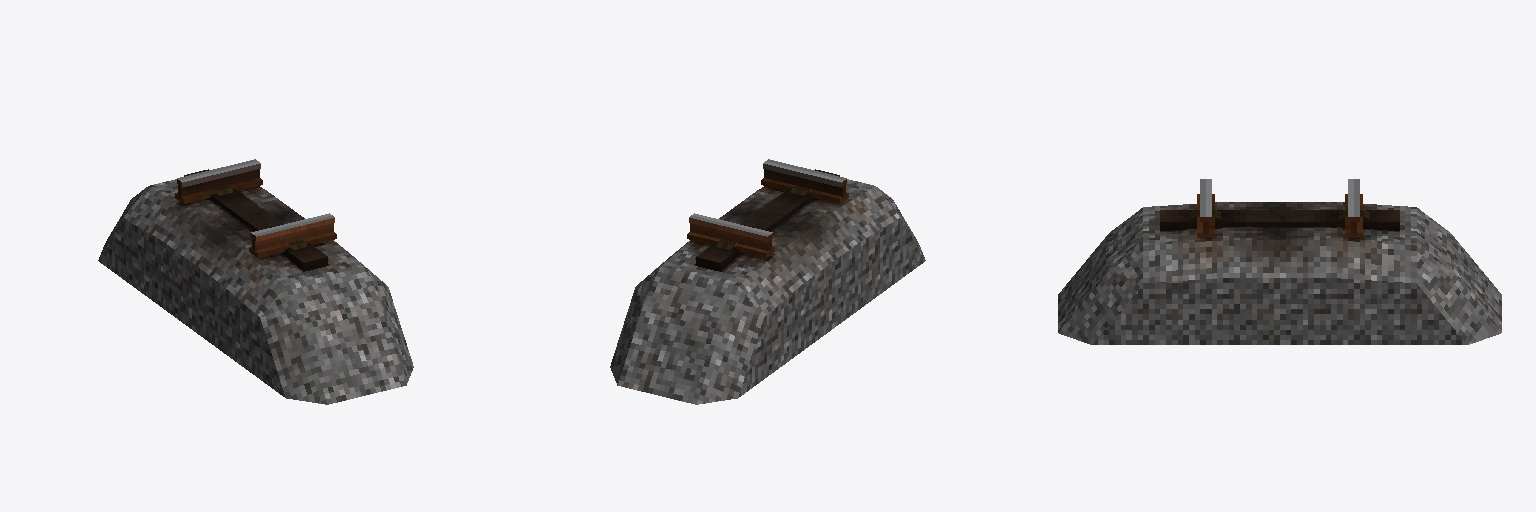
3 views of the same model, side by side, from view 1: azimuth 30°, elevation 25°; view 2: azimuth 150°, elevation 25°; view 3: azimuth 270°, elevation 25° (orthographic).
Visible parts, largest first — view 1: RAIL_BASE_mvpRail_WG, RAIL_LEFT_mvpRail_WG, RAIL_RIGHT_mvpRail_WG; view 2: RAIL_BASE_mvpRail_WG, RAIL_RIGHT_mvpRail_WG, RAIL_LEFT_mvpRail_WG; view 3: RAIL_BASE_mvpRail_WG, RAIL_LEFT_mvpRail_WG, RAIL_RIGHT_mvpRail_WG.
Boxes of the visible parts, box(x1,y1,x2,y2) form: RAIL_BASE_mvpRail_WG: box(98, 169, 413, 404); RAIL_LEFT_mvpRail_WG: box(249, 213, 336, 257); RAIL_RIGHT_mvpRail_WG: box(175, 159, 262, 203); RAIL_BASE_mvpRail_WG: box(610, 169, 925, 404); RAIL_RIGHT_mvpRail_WG: box(687, 213, 774, 257); RAIL_LEFT_mvpRail_WG: box(761, 159, 848, 203); RAIL_BASE_mvpRail_WG: box(1058, 202, 1501, 344); RAIL_LEFT_mvpRail_WG: box(1197, 179, 1214, 237); RAIL_RIGHT_mvpRail_WG: box(1345, 179, 1362, 237).
Bounding box in the file's own units: 1.62 × 1.41 × 4.88.
Materials: 2 (2 with a texture image).